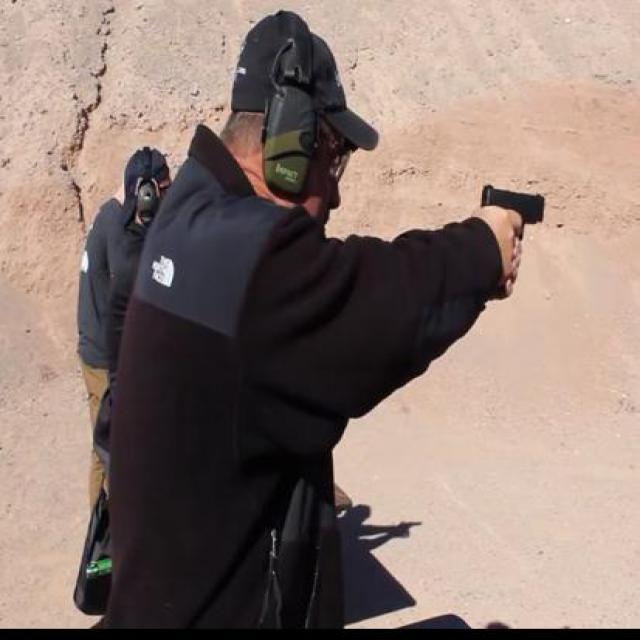gun: (474, 182, 549, 291)
